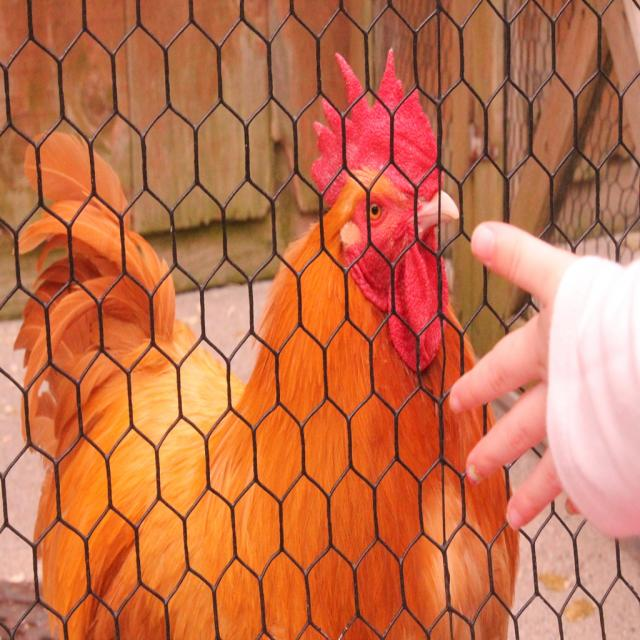Chicken: (38, 60, 518, 611)
